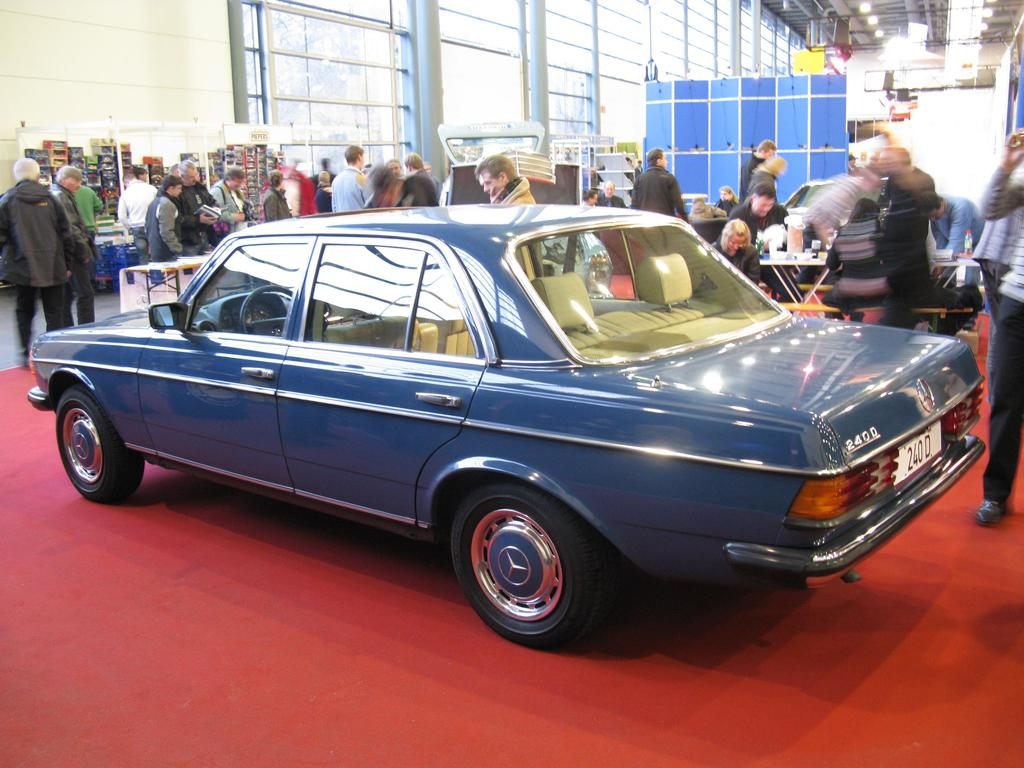mobil: (32, 205, 981, 635)
